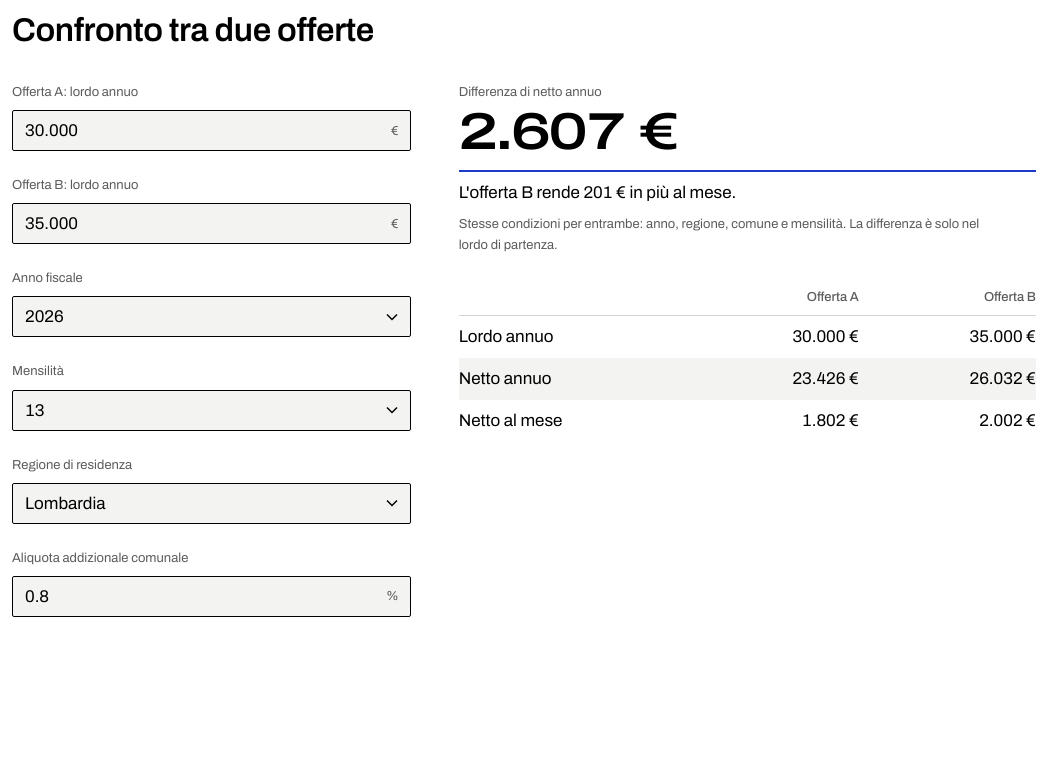
Test: ComparisonPage › re-flags the winner when offer A is raised above B
Step 1. Replace the text in the field labelled "Offerta A: lordo annuo" with "60000" → coordinates (211, 131), box [12, 110, 411, 151]
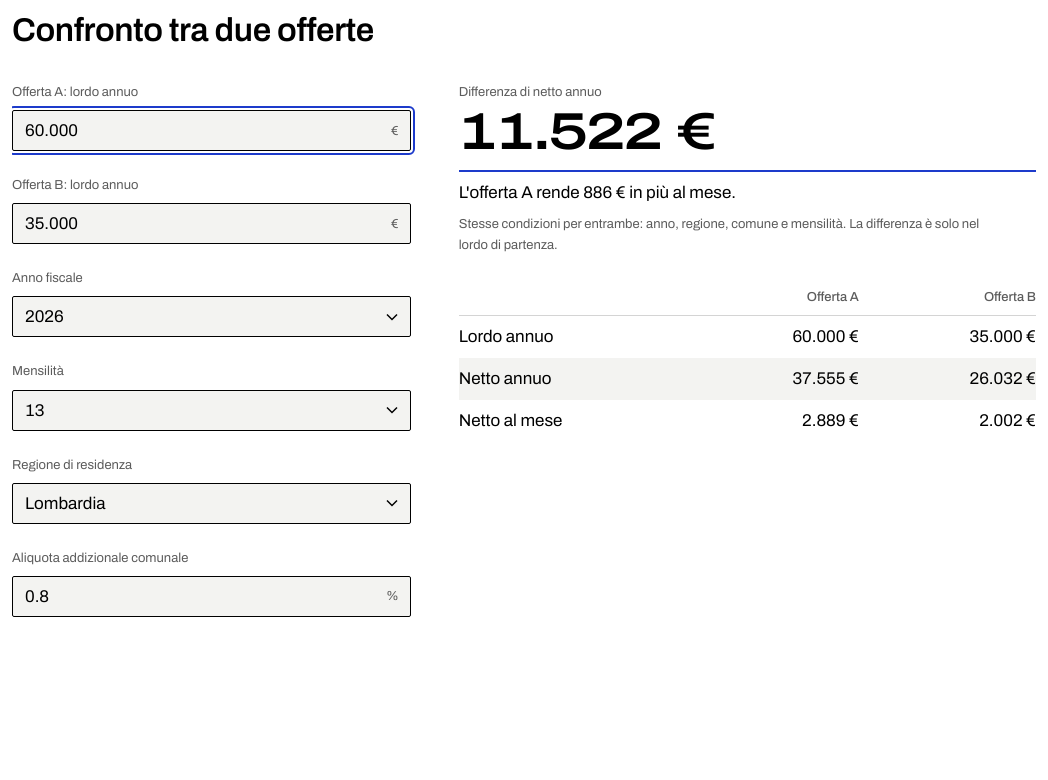
Result: the text "L'offerta A rende 886 € in più al mese." is shown at [459, 183, 736, 202]
